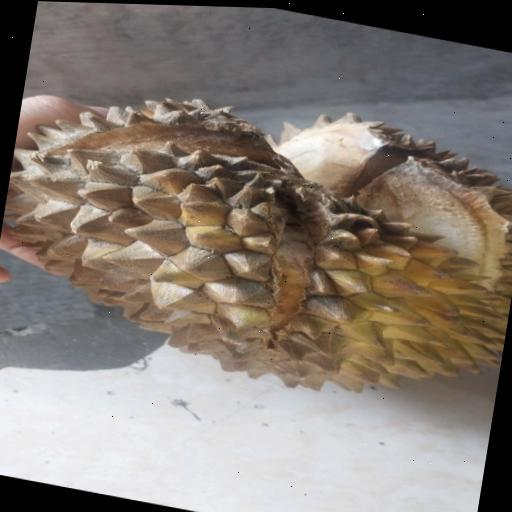rot: (0, 28, 512, 439)
